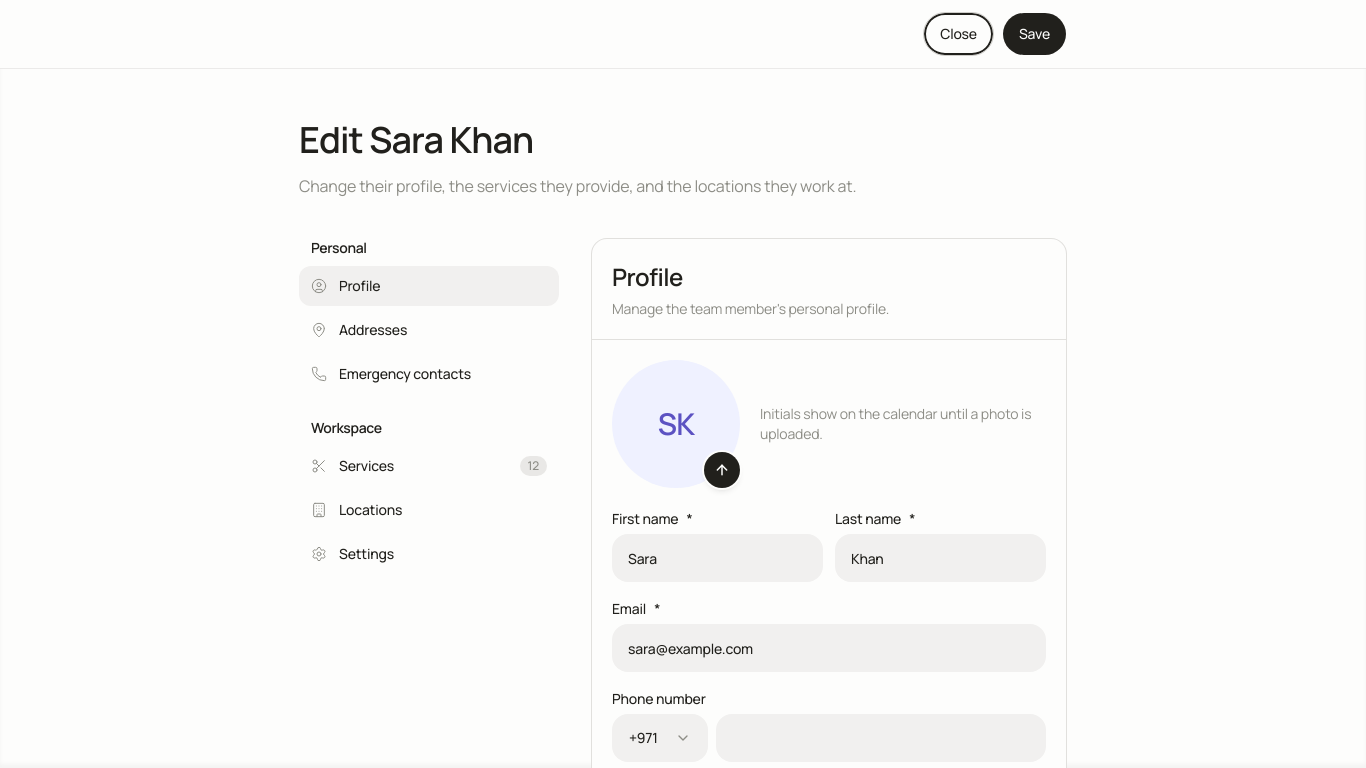
Test: inviting a team member › does not pre-select when editing someone
Click the button "Save" at {"x": 1034, "y": 34}, box [1002, 12, 1067, 56]
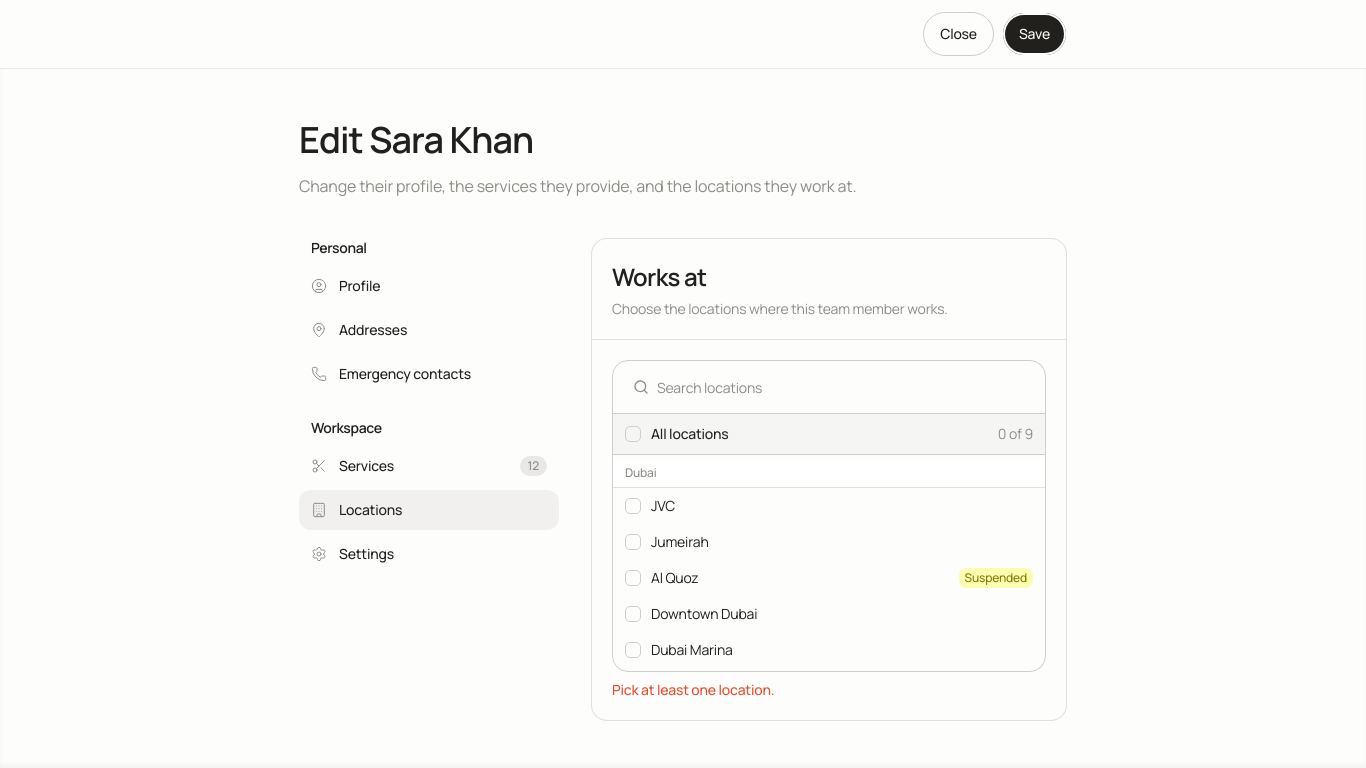
Expected: the text "Pick at least one location." is shown, [612, 680, 774, 699]
